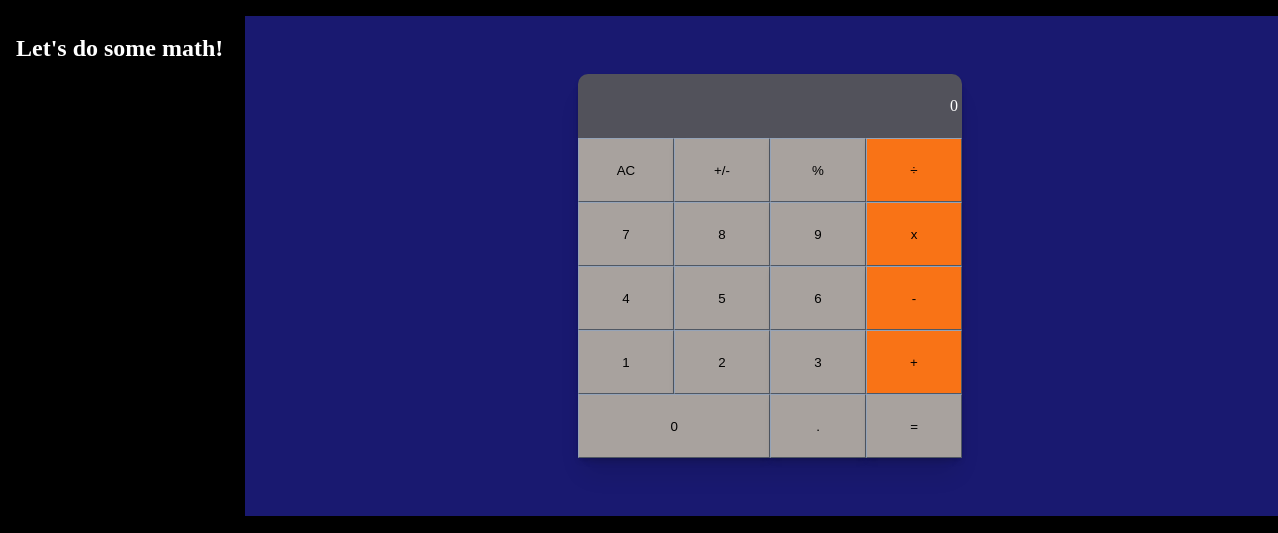
Test: Perform calculation operations › Click two numbers to display output on screen
The width and height of the screenshot is (1278, 533).
Click the button "5" at point(722, 298), box [674,266,770,330]
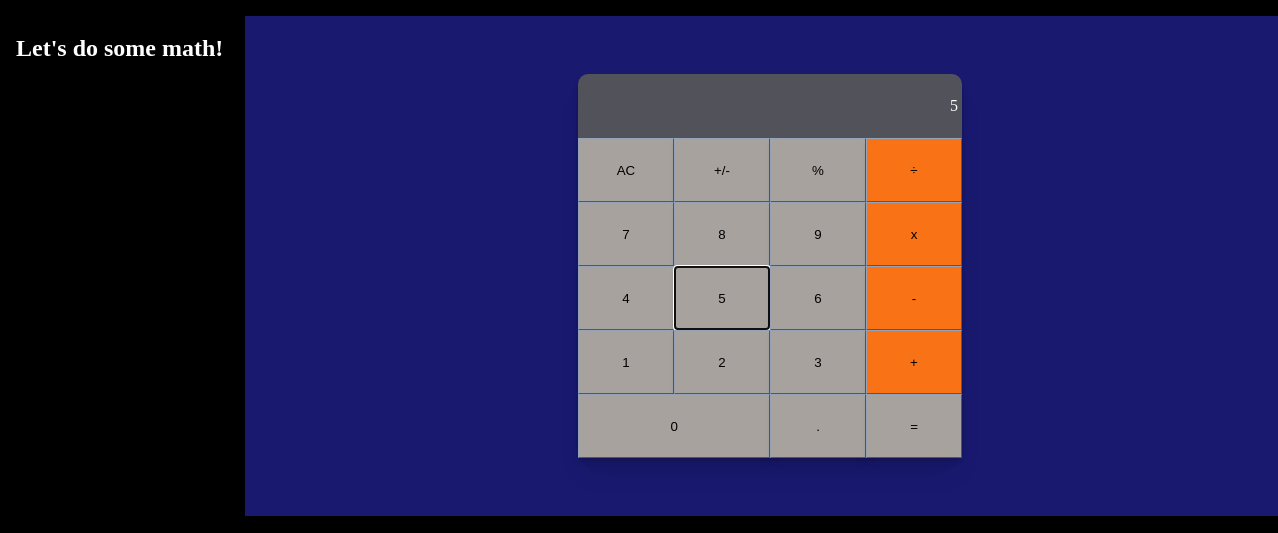
Click the button "2" at point(722, 362), box [674,330,770,394]
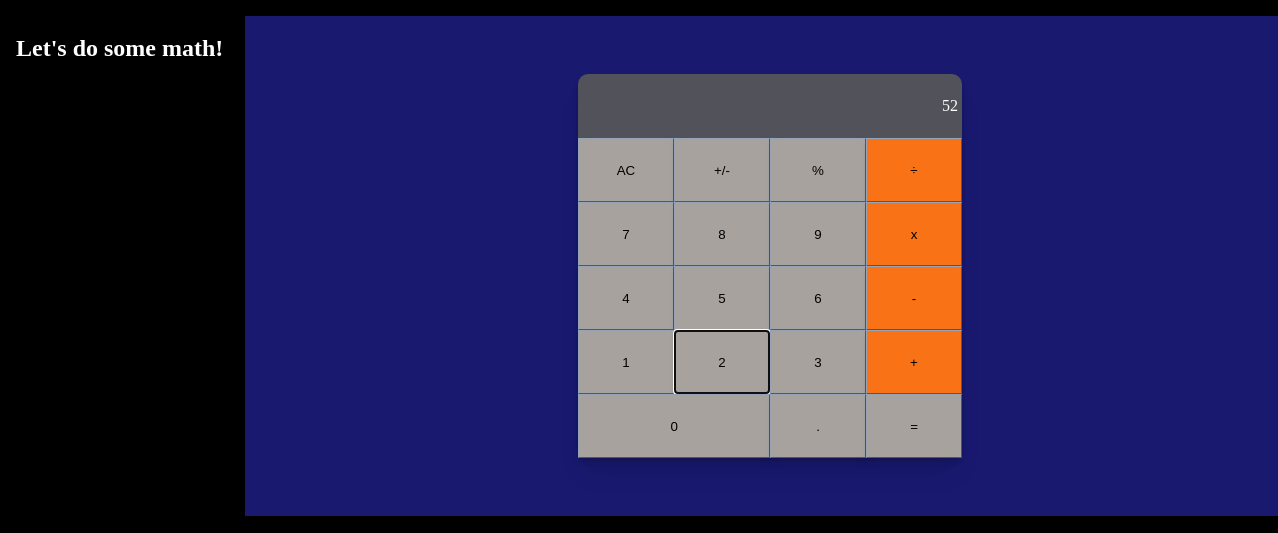
expect the button with test id "cal-screen-out" reads "52": met, box [942,97,958,114]
